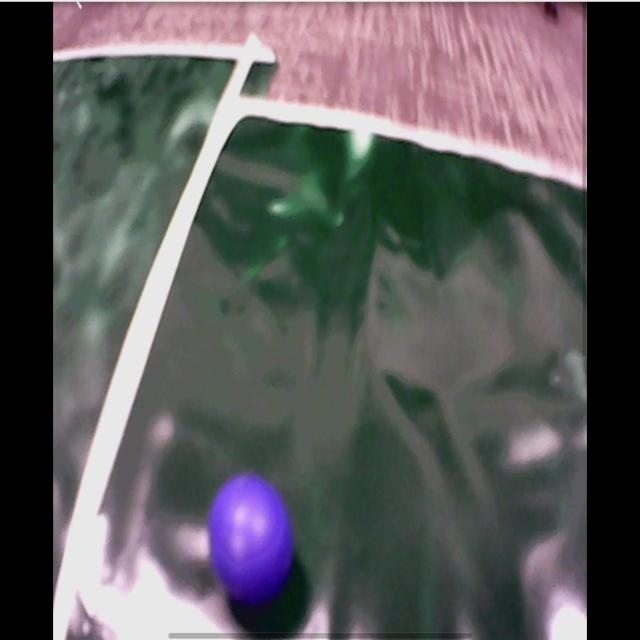ball: (211, 475, 292, 602)
